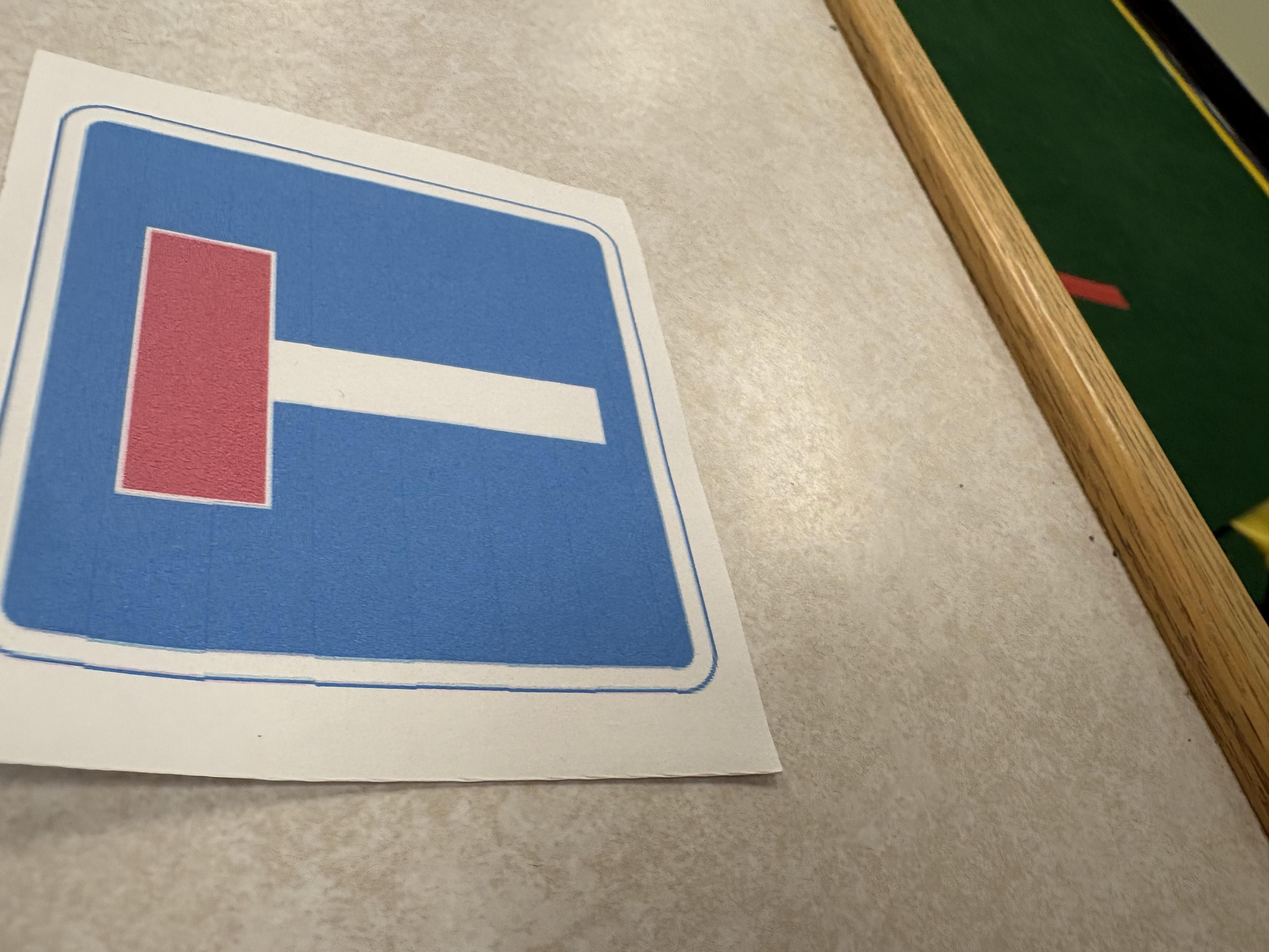Dead End: (0, 49, 787, 780)
